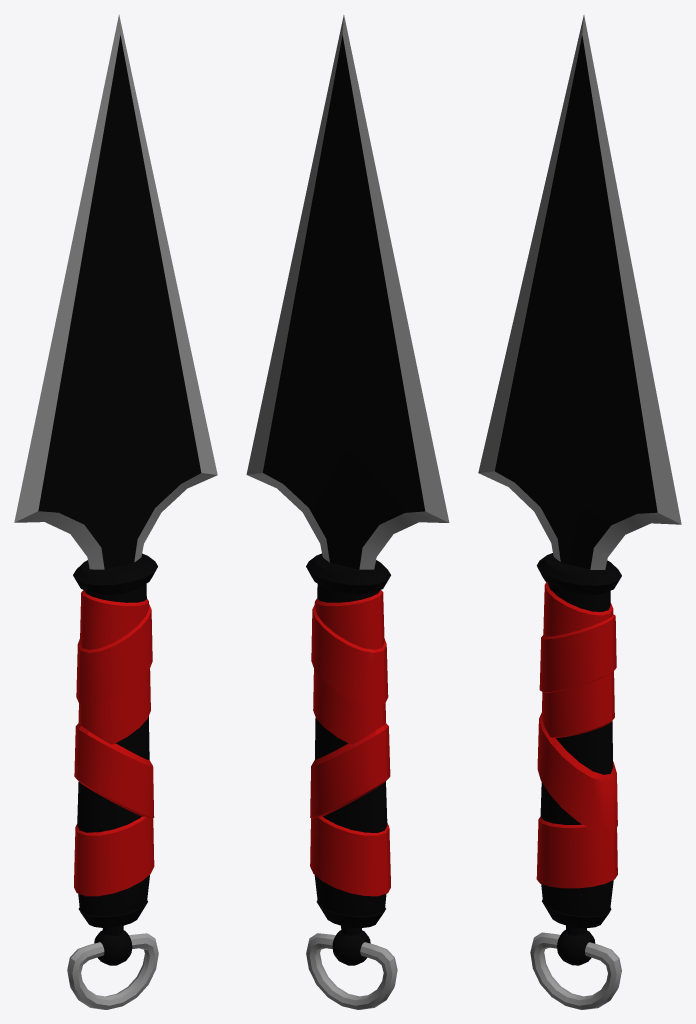
Rendered from kunai.fbx.
3 views of the same model, side by side, from view 1: azimuth 30°, elevation 25°; view 2: azimuth 150°, elevation 25°; view 3: azimuth 330°, elevation 25° (orthographic).
Visible parts, largest first — view 1: kunai; view 2: kunai; view 3: kunai.
Part boxes in pixels (x1,y1,x2,y2): kunai: (14, 14, 217, 1009); kunai: (246, 15, 449, 1009); kunai: (478, 15, 681, 1009).
Size of the model in its own units: 0.4001 by 1.87 by 0.1059.
1 material, 1 textured.
